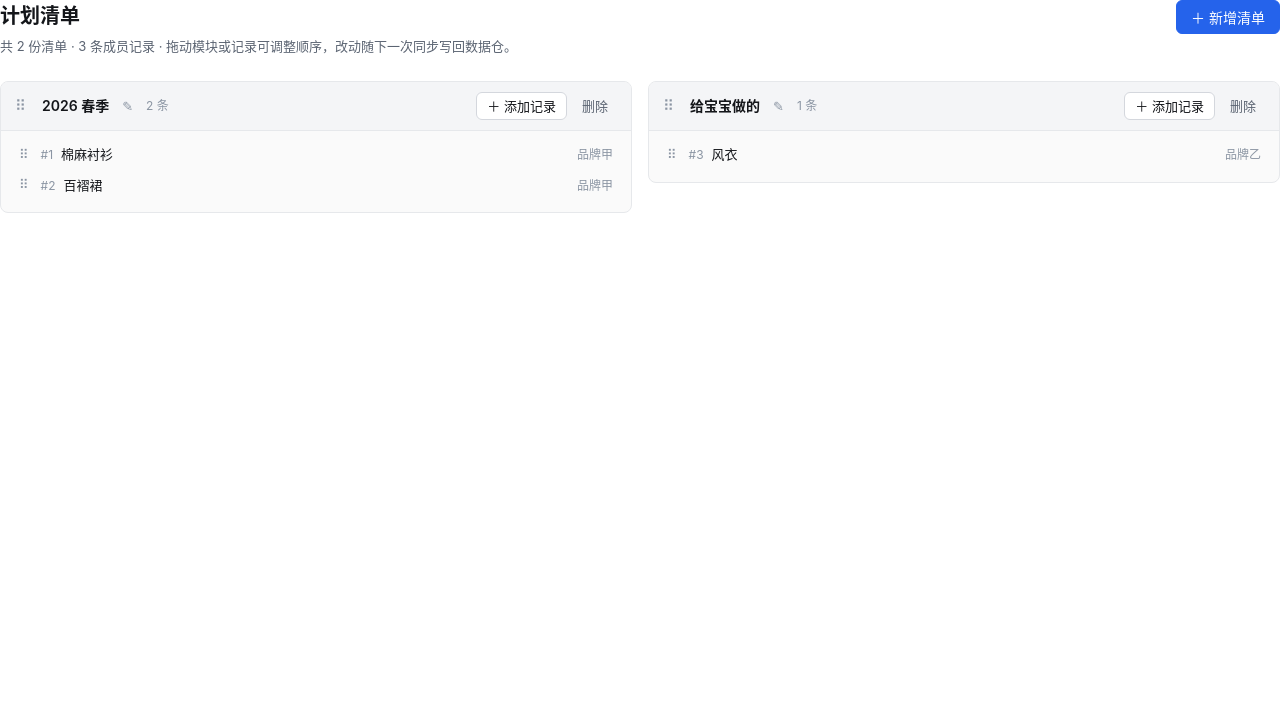
新增清单（v6.9：只需名称，创建为空清单） › 弹层里没有搜索框 / 筛选 chips / 候选挑选列表（v6.9 移除挑选流程）
What coordinates should you click on to do the following:
click the button with test id "iw-plans-new"
I would click on:
 (1228, 17)
Its box is [1176, 0, 1279, 34].
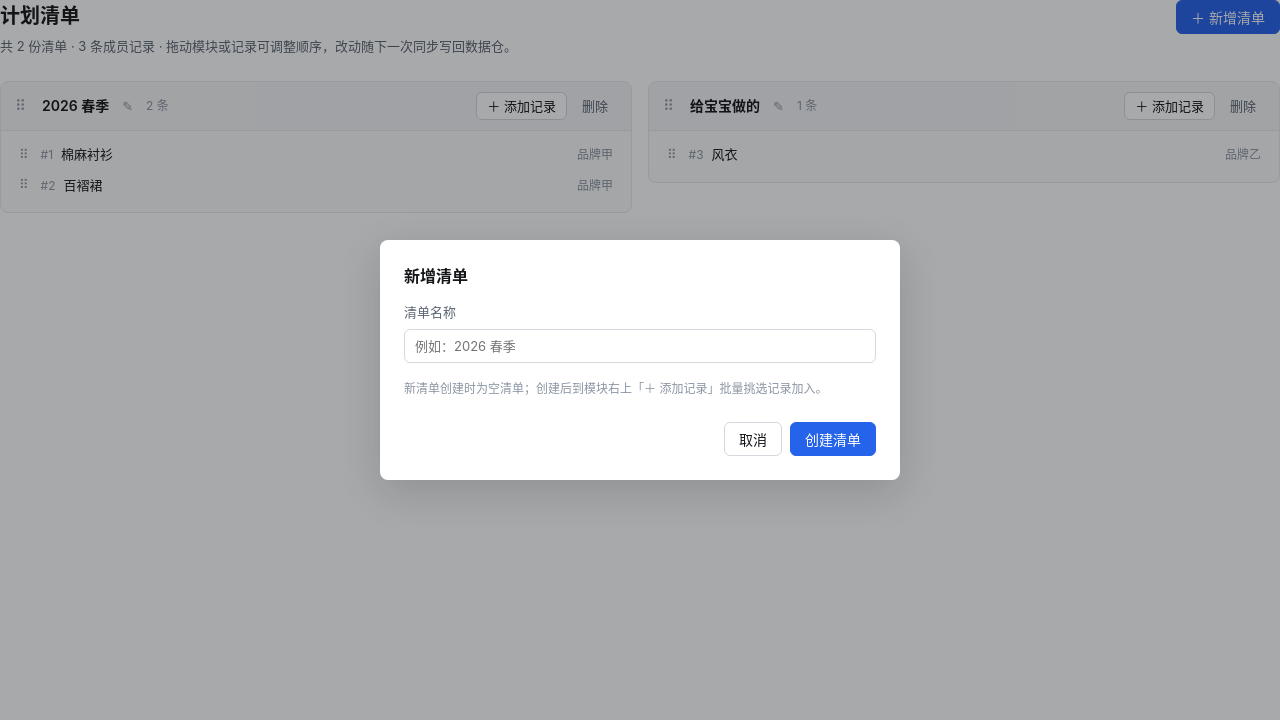
Check: the dialog shows "空清单"
Check: the dialog shows "＋ 添加记录", box [404, 381, 827, 396]
